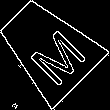M_NW: (14, 14, 82, 82)
